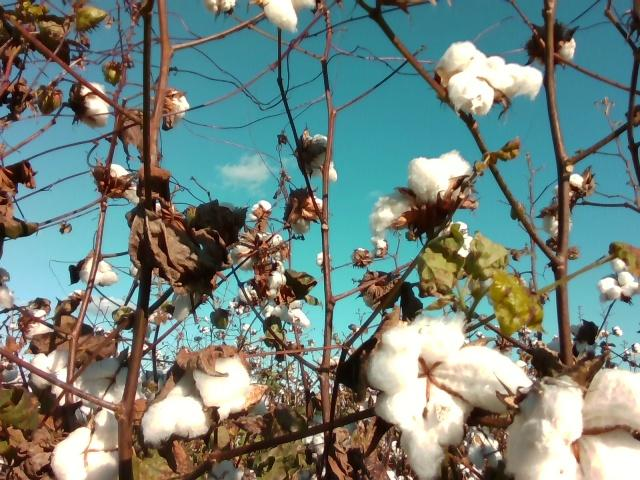cotton_ready: (368, 314, 533, 480), (507, 362, 640, 480), (143, 349, 253, 447), (369, 150, 472, 241), (437, 39, 544, 117), (51, 407, 122, 480), (29, 340, 83, 410), (77, 356, 139, 414), (102, 161, 142, 207), (259, 0, 316, 32), (73, 81, 110, 128), (82, 258, 119, 289)
